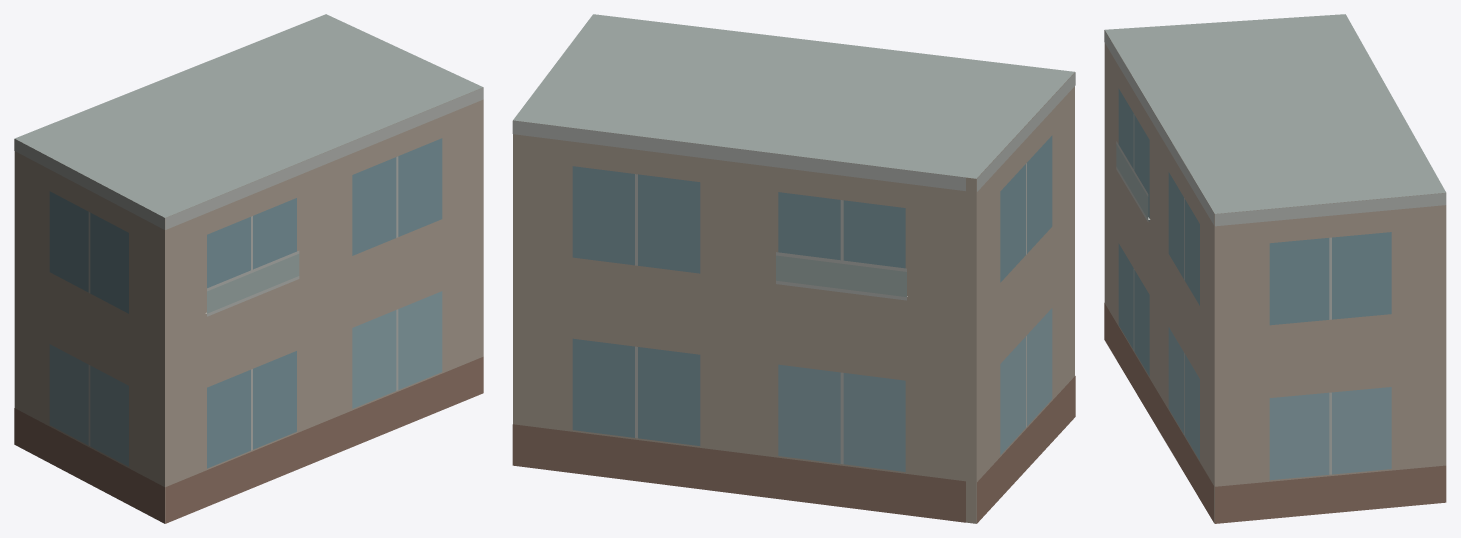
File: survey-upis-32460066.glb
3 renders of one model, left to right at view 1: azimuth 30°, elevation 25°; view 2: azimuth 150°, elevation 25°; view 3: azimuth 270°, elevation 25°, orthographic. The views are drawn at different scales.
Visible parts, largest first — view 1: survey-upis-32460066.tmp; view 2: survey-upis-32460066.tmp; view 3: survey-upis-32460066.tmp.
Boxes of the visible parts, <box> form: survey-upis-32460066.tmp: <box>14,14,483,523</box>; survey-upis-32460066.tmp: <box>512,14,1075,523</box>; survey-upis-32460066.tmp: <box>1104,14,1446,523</box>.
Bounding box in the file's own units: 8.45 × 6.1 × 6.11.
